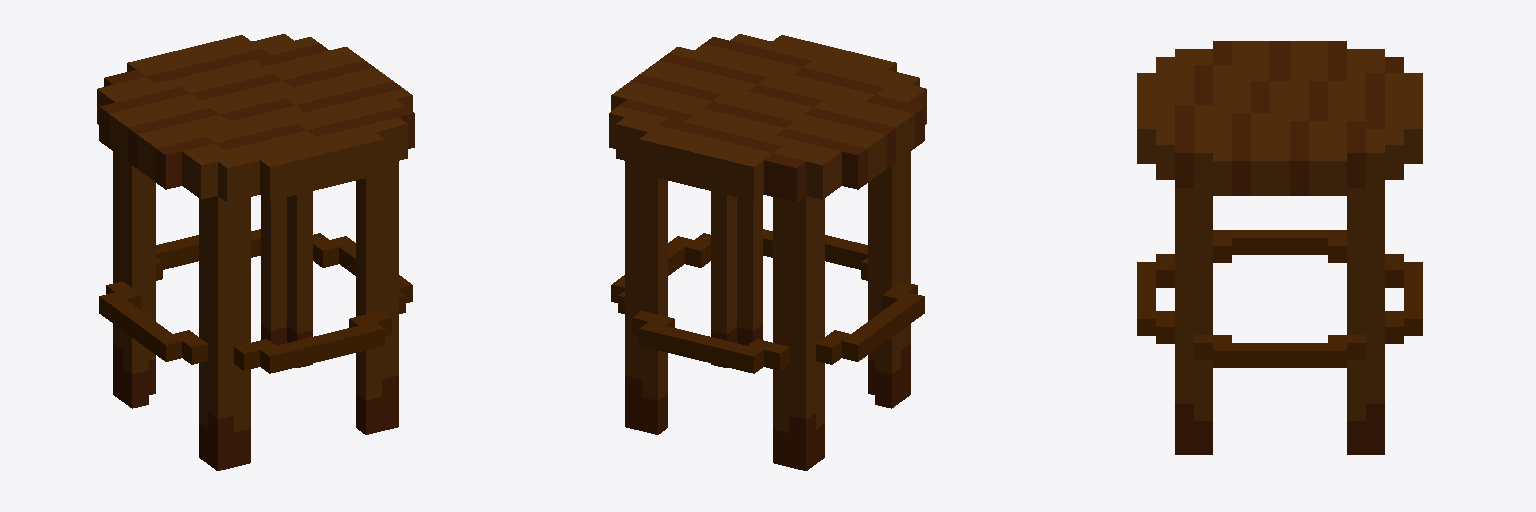
3 renders of one model, left to right at view 1: azimuth 30°, elevation 25°; view 2: azimuth 150°, elevation 25°; view 3: azimuth 270°, elevation 25°, orthographic.
Parts seen in each view (by area): view 1: object 1; view 2: object 1; view 3: object 1.
Boxes of the visible parts, box(x1,y1,x2,y2) form: object 1: box(97, 34, 414, 470); object 1: box(609, 34, 926, 470); object 1: box(1137, 41, 1422, 454).
Bounding box in the file's own units: 1.5 × 1.8 × 1.5.
Materials: 1 (1 with a texture image).